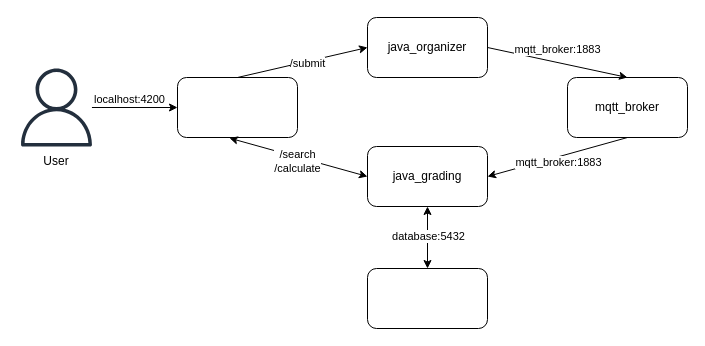
The diagram is 705 pixels wide and 346 high, and some of its shapes have lost their labels. The shapes that lost their labels are listed below. From the top down, each one's box as (x1, y1, x2, y2) in pixels, then its label:
(176, 76, 298, 138): angular-website
(366, 268, 488, 328): database
